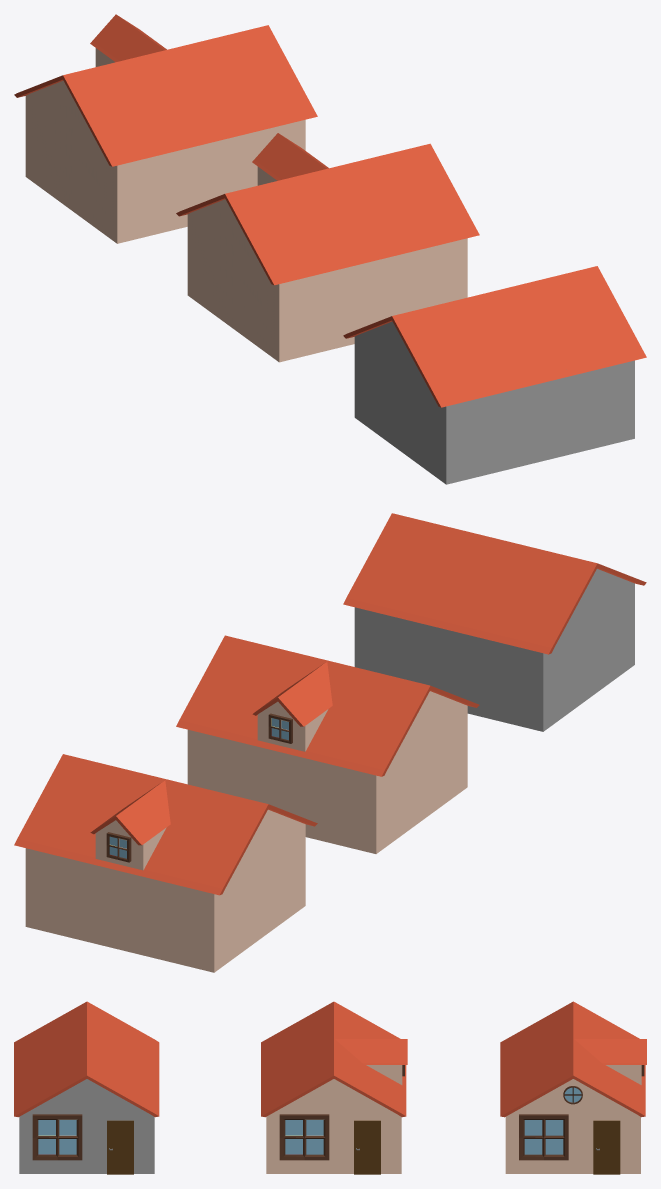
Rendered from houses 1.fbx.
3 views of the same model, one above another, from view 1: azimuth 30°, elevation 25°; view 2: azimuth 150°, elevation 25°; view 3: azimuth 270°, elevation 25° (orthographic). The views are drawn at different scales.
Visible parts, largest first — view 1: Cube, Cube.003, Cube.002; view 2: Cube.002, Cube.003, Cube; view 3: Cube, Cube.002, Cube.003.
Boxes of the visible parts, box(x1,y1,x2,y2) form: Cube: box(176, 133, 479, 362); Cube.003: box(343, 266, 646, 484); Cube.002: box(14, 14, 317, 243); Cube.002: box(14, 754, 317, 972); Cube.003: box(343, 513, 646, 731); Cube: box(176, 635, 479, 853); Cube: box(261, 1001, 407, 1174); Cube.002: box(500, 1001, 646, 1174); Cube.003: box(14, 1001, 159, 1174).
Bounding box in the file's own units: 1797 × 1148 × 6483.
